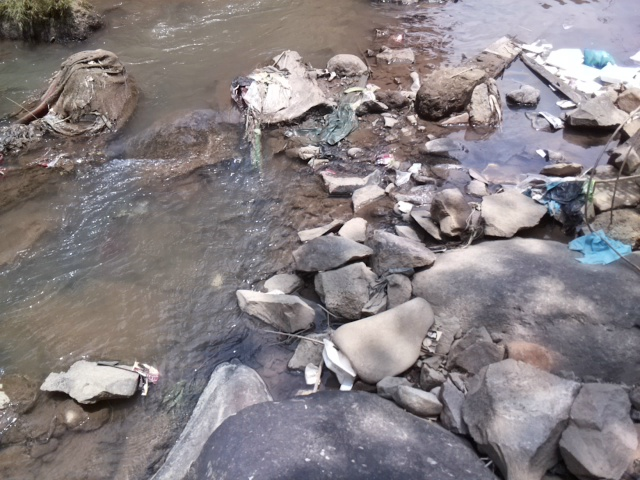Sampah_Plastik: (535, 178, 594, 233), (567, 228, 633, 267), (582, 45, 619, 69), (375, 152, 394, 165)
Sampah_Styrofoam: (320, 336, 356, 394)
